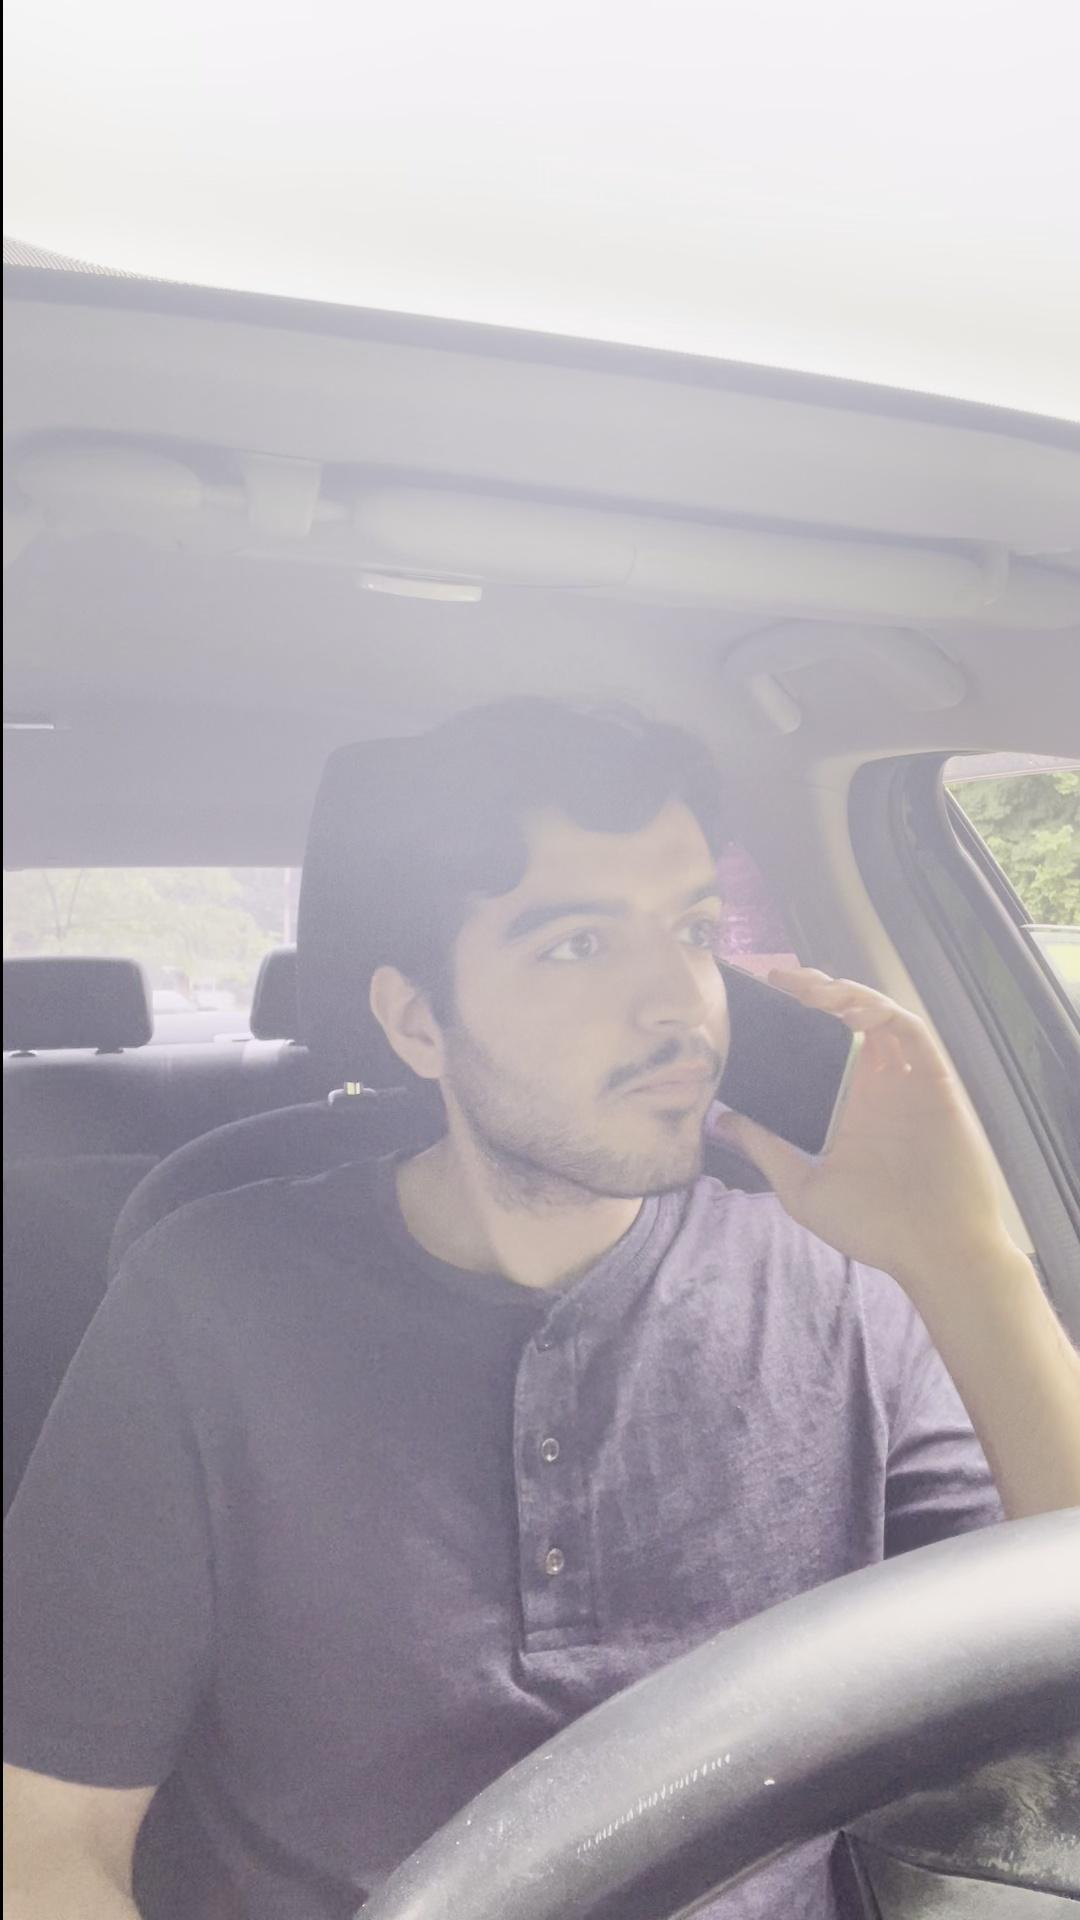mobile: (713, 930, 953, 1200)
no_seatbelt: (423, 1150, 936, 1807)
